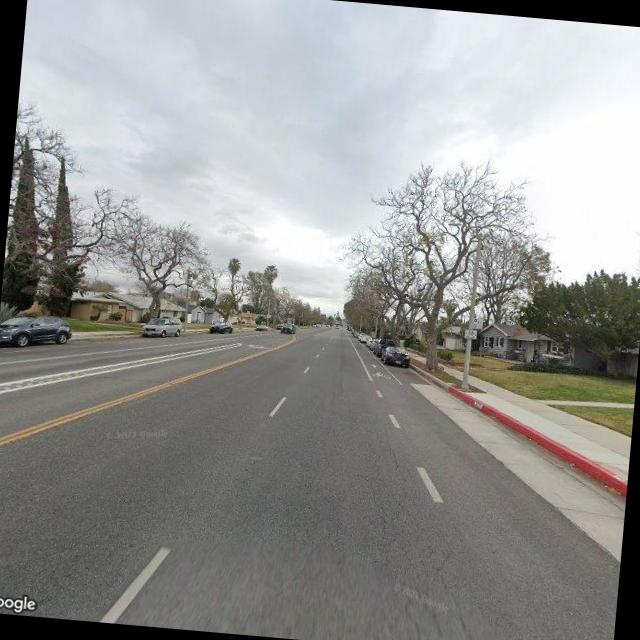pothole: (366, 421, 496, 636)
